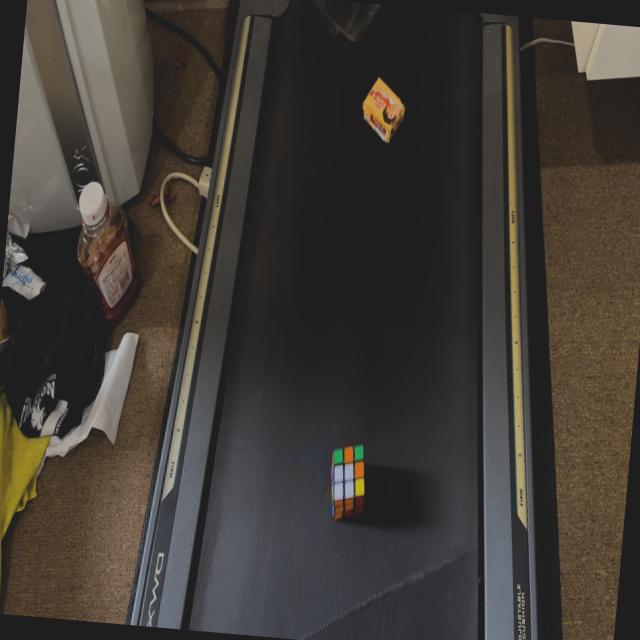Trash: (322, 436, 372, 526), (358, 78, 407, 145)
